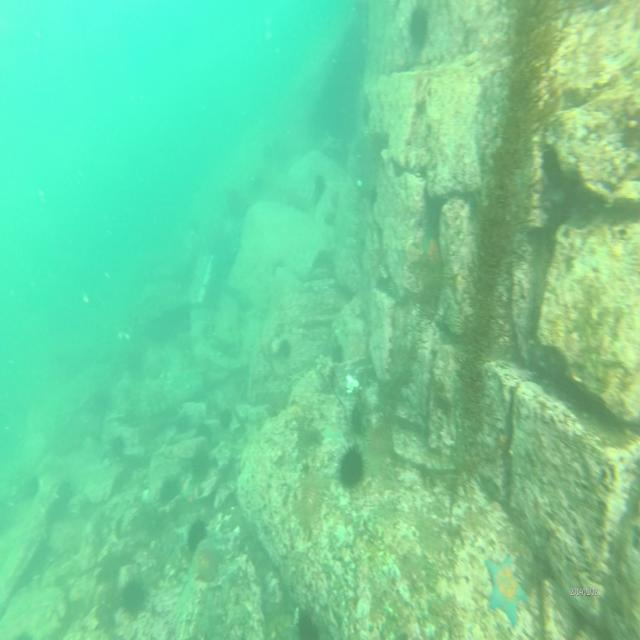echinus: (294, 472, 328, 528), (539, 348, 569, 395), (339, 443, 366, 491), (120, 575, 148, 616), (407, 9, 431, 51), (296, 608, 321, 640), (186, 516, 207, 554), (158, 478, 181, 510), (278, 336, 294, 361), (330, 344, 345, 367)
starfish: (484, 555, 530, 625), (422, 223, 442, 276)
